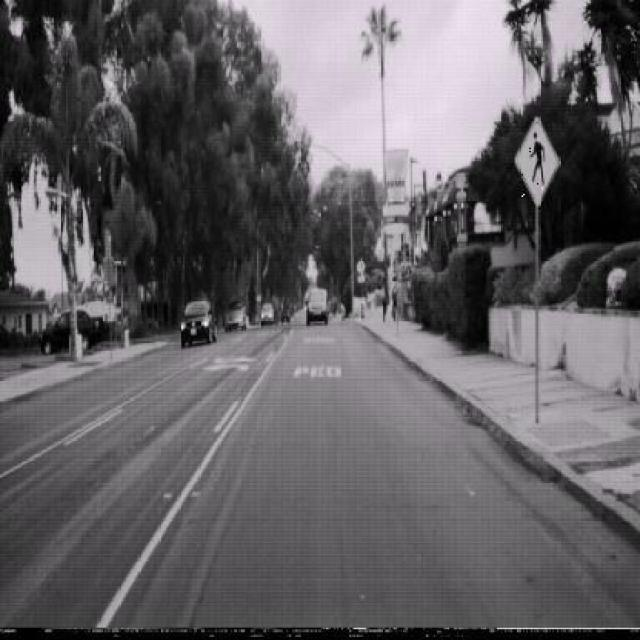pedestrianCrossing: (514, 116, 559, 207)
